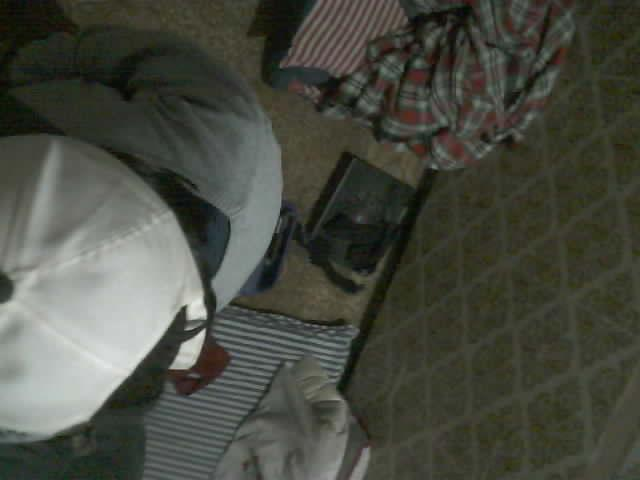cap: (0, 133, 214, 443)
